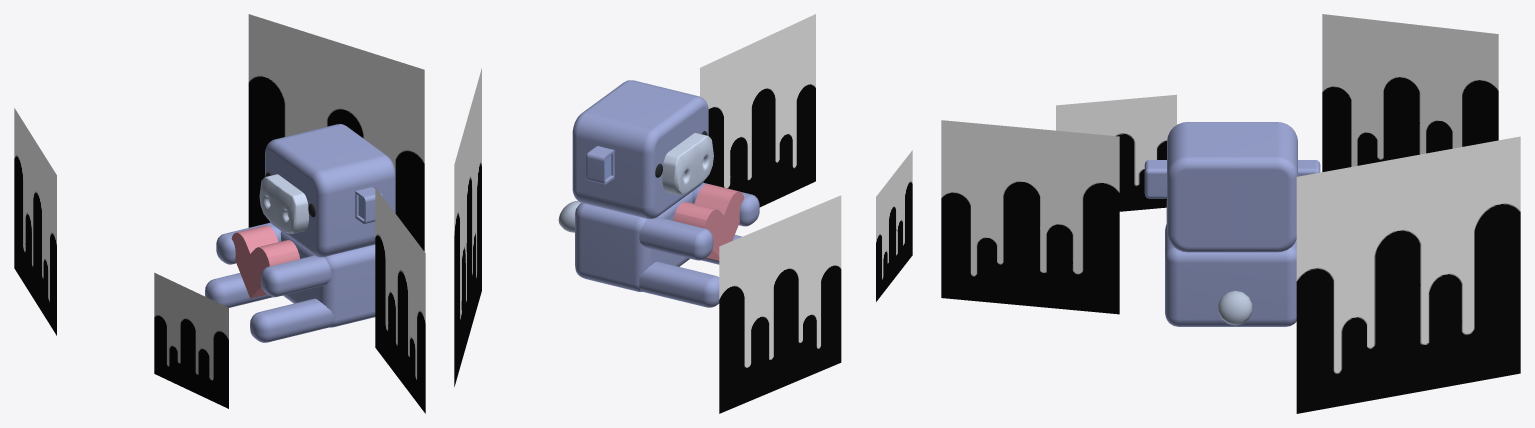
The model's file is wumpus.glb.
3 views of the same model, side by side, from view 1: azimuth 30°, elevation 25°; view 2: azimuth 150°, elevation 25°; view 3: azimuth 270°, elevation 25° (orthographic). The views are drawn at different scales.
Parts seen in each view (by area): view 1: polySurface2, pPlane4, pPlane3, pPlane1, pPlane2; view 2: polySurface2, pPlane2, pPlane3, pPlane4, pPlane1, polySurface1; view 3: pPlane4, pPlane3, polySurface2, pPlane2, pPlane1, polySurface1.
Part boxes in pixels (left/top/right/bottom): polySurface2: left=205, top=124, right=395, bottom=342; pPlane4: left=248, top=14, right=424, bottom=251; pPlane3: left=375, top=187, right=425, bottom=413; pPlane1: left=154, top=272, right=228, bottom=408; pPlane2: left=14, top=108, right=56, bottom=335; polySurface2: left=572, top=80, right=759, bottom=307; pPlane2: left=719, top=195, right=841, bottom=413; pPlane3: left=700, top=14, right=815, bottom=207; pPlane4: left=454, top=68, right=481, bottom=386; pPlane1: left=876, top=150, right=912, bottom=301; polySurface1: left=558, top=201, right=581, bottom=232; pPlane4: left=1296, top=136, right=1520, bottom=413; pPlane3: left=941, top=120, right=1119, bottom=314; polySurface2: left=1144, top=122, right=1320, bottom=326; pPlane2: left=1322, top=14, right=1498, bottom=172; pPlane1: left=1056, top=94, right=1176, bottom=211; polySurface1: left=1218, top=290, right=1252, bottom=325.
Bounding box in the file's own units: 3.95 × 2.27 × 5.02.
8 materials, 1 textured.
